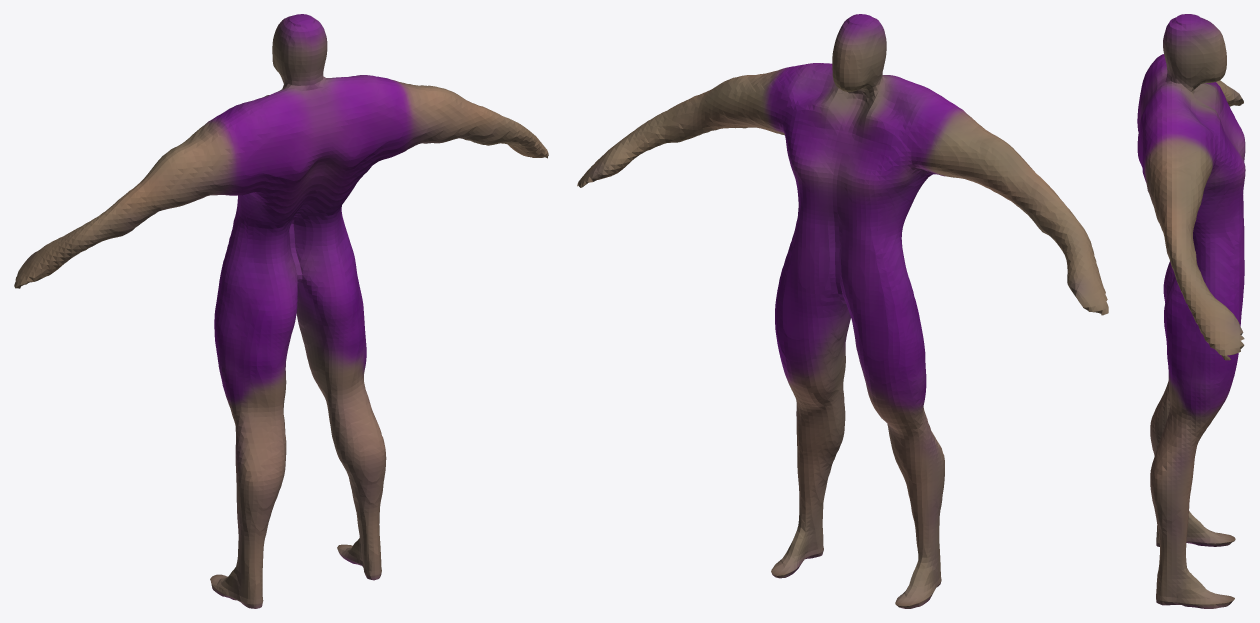
File: proof-shap-e-wrestler.glb
3 renders of one model, left to right at view 1: azimuth 30°, elevation 25°; view 2: azimuth 150°, elevation 25°; view 3: azimuth 270°, elevation 25°, orthographic.
Visible parts, largest first — view 1: tmpbu750ohy.ply; view 2: tmpbu750ohy.ply; view 3: tmpbu750ohy.ply.
Boxes of the visible parts, box(x1,y1,x2,y2) form: tmpbu750ohy.ply: box(14, 14, 548, 608); tmpbu750ohy.ply: box(577, 14, 1108, 608); tmpbu750ohy.ply: box(1137, 14, 1245, 608).
Size of the model in its own units: 1.95 by 1.98 by 0.348.
